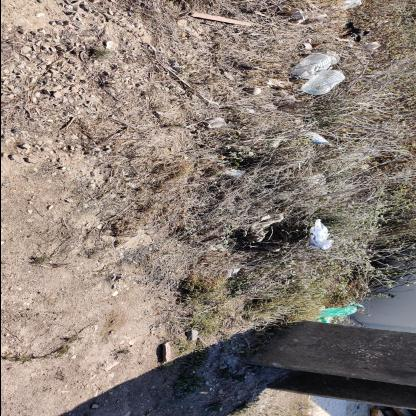karton: (202, 117, 226, 128)
plastik: (288, 50, 338, 80), (300, 69, 344, 95), (312, 304, 366, 323), (304, 219, 336, 250)
